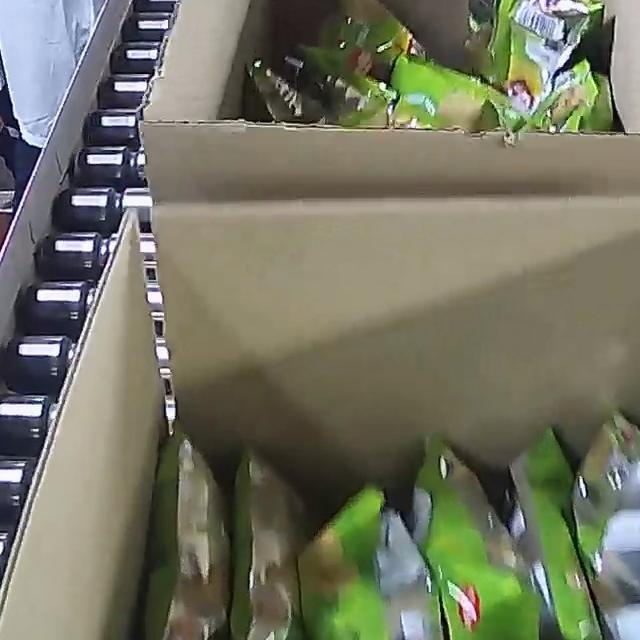yogurt: (140, 370, 640, 640), (246, 0, 609, 133)
